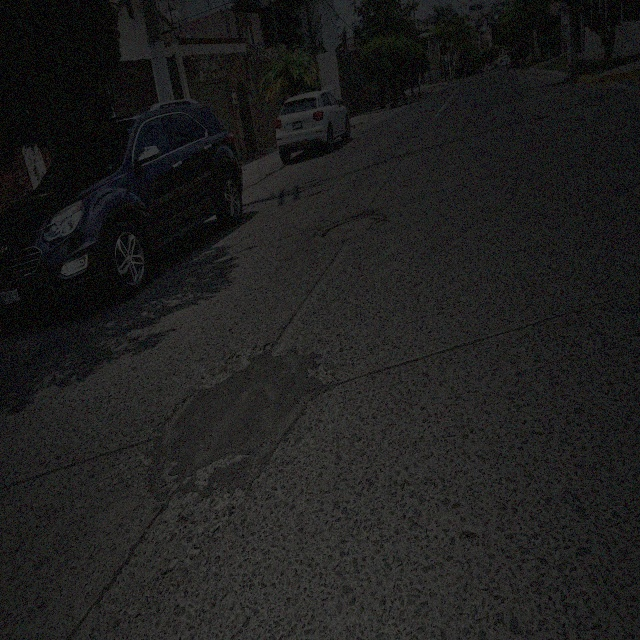pothole: (198, 342, 266, 390), (193, 451, 249, 496), (158, 394, 190, 444), (210, 490, 247, 514)
